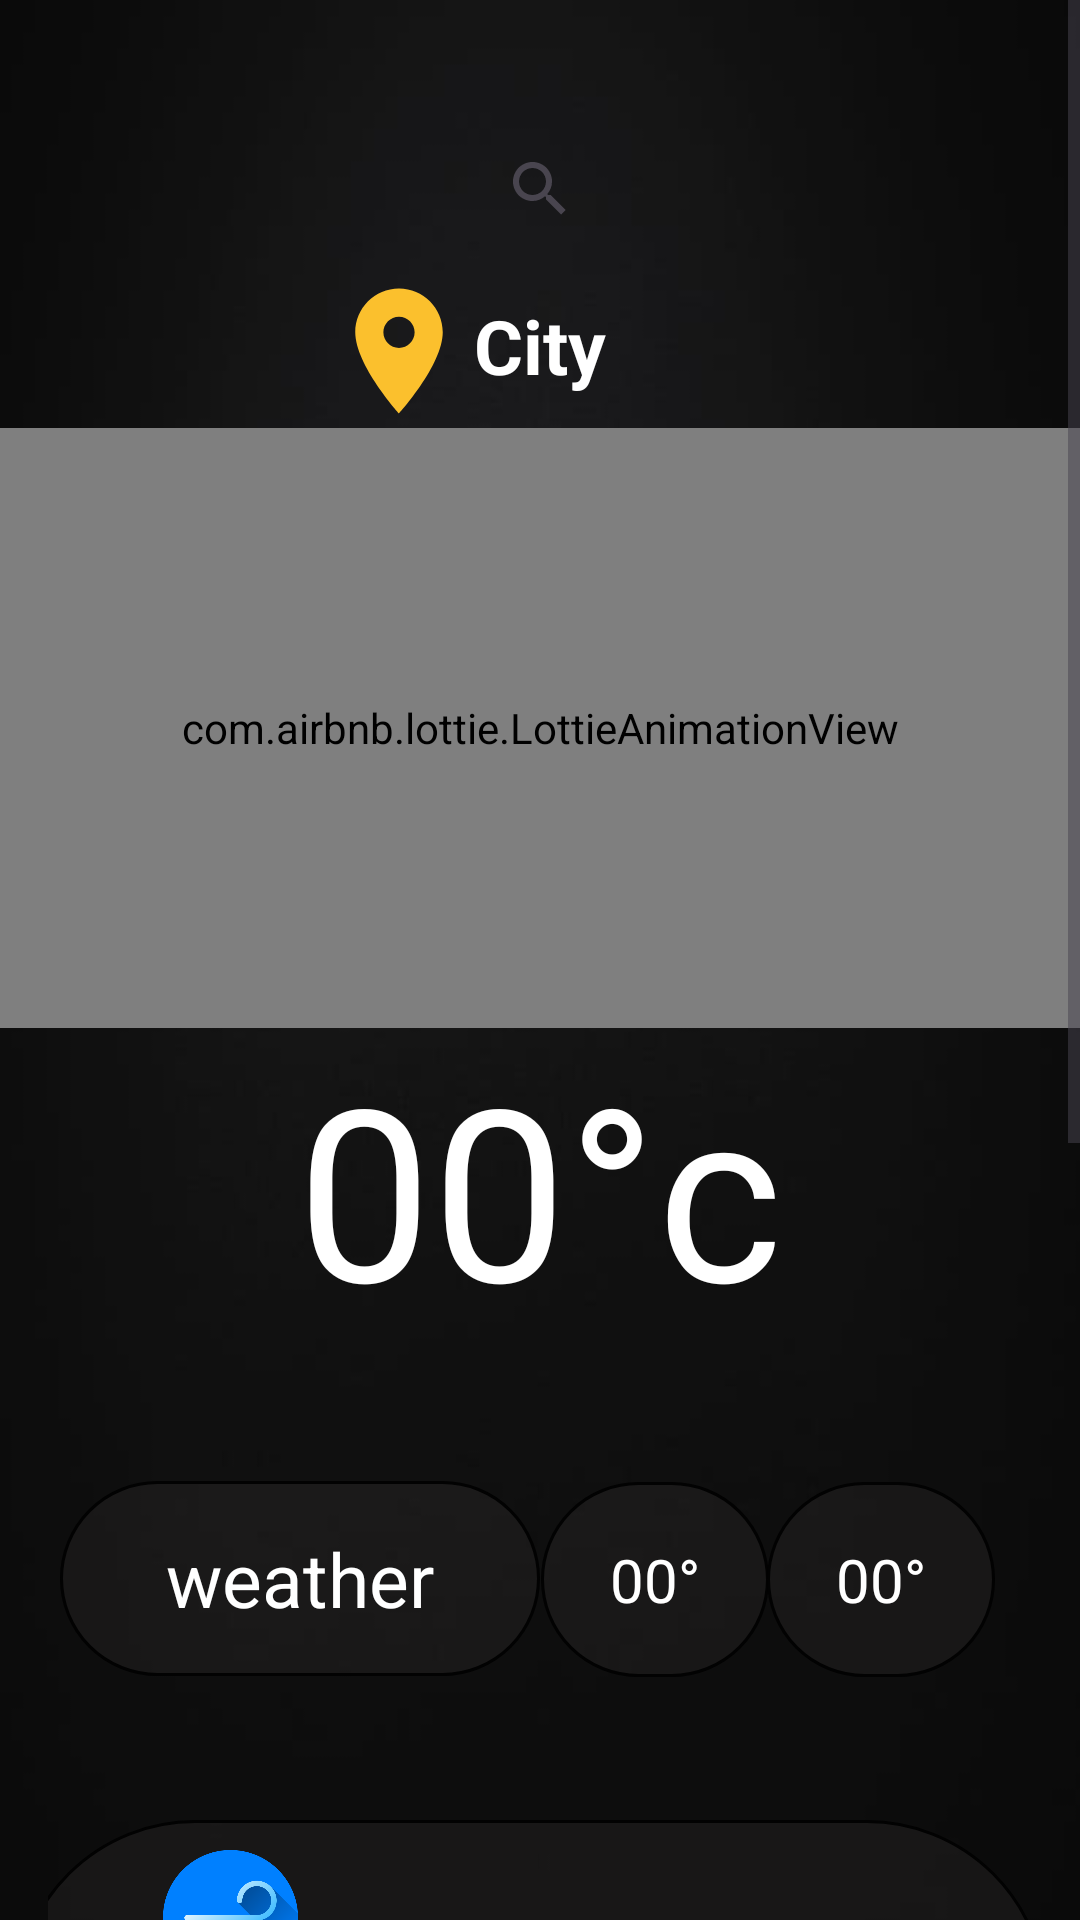

Named icons in this screenshot (1080×1920) and their bounding boxes, Rect(x1, y1, x2, y2):
location on: Rect(355, 288, 443, 414)
